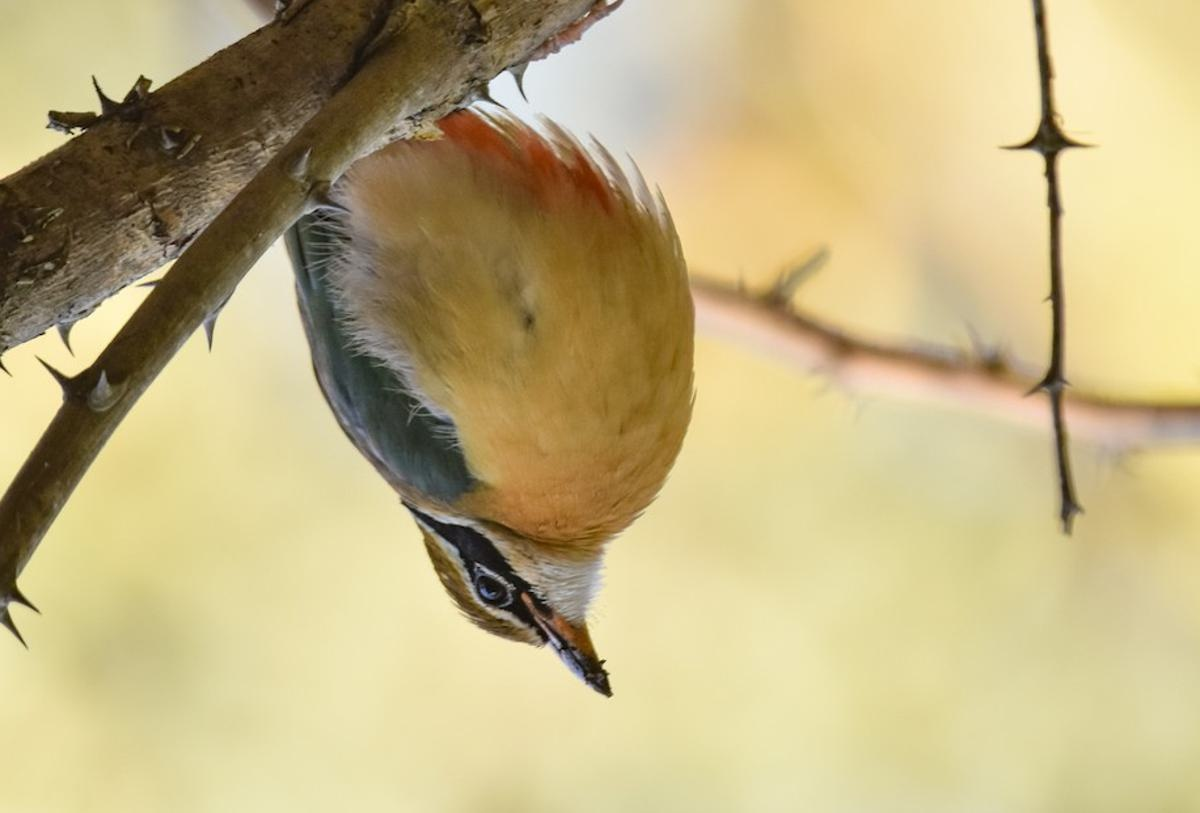pitta: (280, 109, 735, 697)
